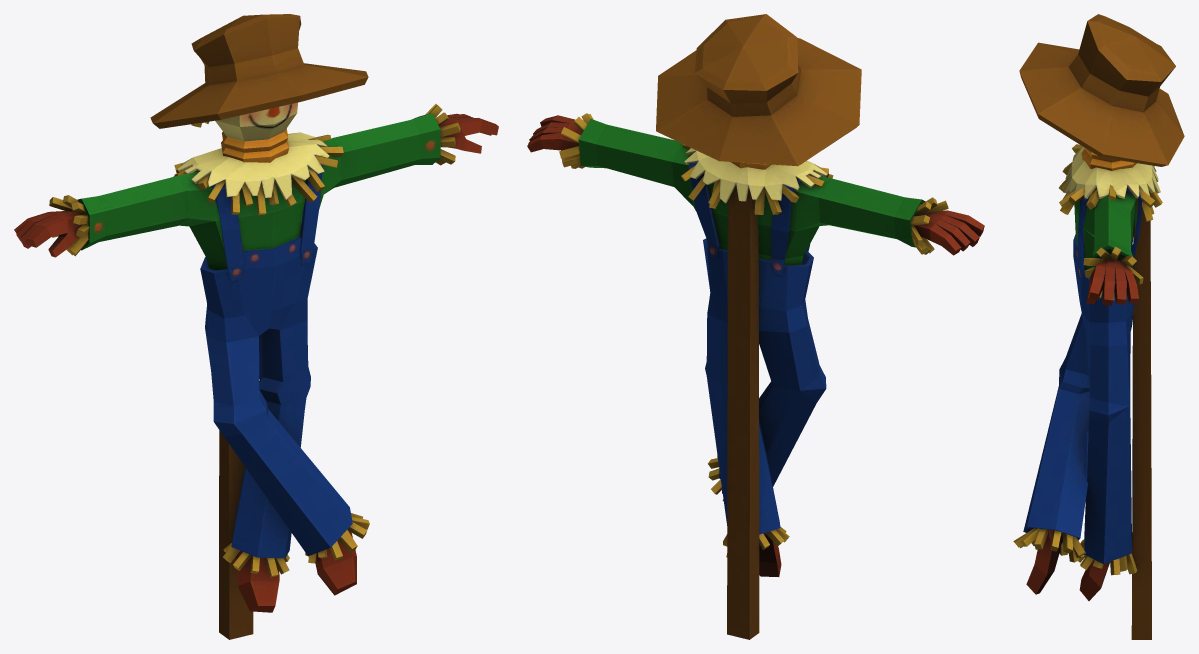
The model's file is scarecrow.glb.
3 renders of one model, left to right at view 1: azimuth 30°, elevation 25°; view 2: azimuth 150°, elevation 25°; view 3: azimuth 270°, elevation 25°, orthographic. The views are drawn at different scales.
Parts seen in each view (by area): view 1: Scarecrow_mesh; view 2: Scarecrow_mesh; view 3: Scarecrow_mesh.
Part boxes in pixels (x1,y1,x2,y2): Scarecrow_mesh: (14, 14, 498, 639); Scarecrow_mesh: (527, 14, 984, 639); Scarecrow_mesh: (1013, 14, 1184, 639).
Size of the model in its own units: 2.13 by 2.76 by 0.6958.
1 material, 1 textured.
